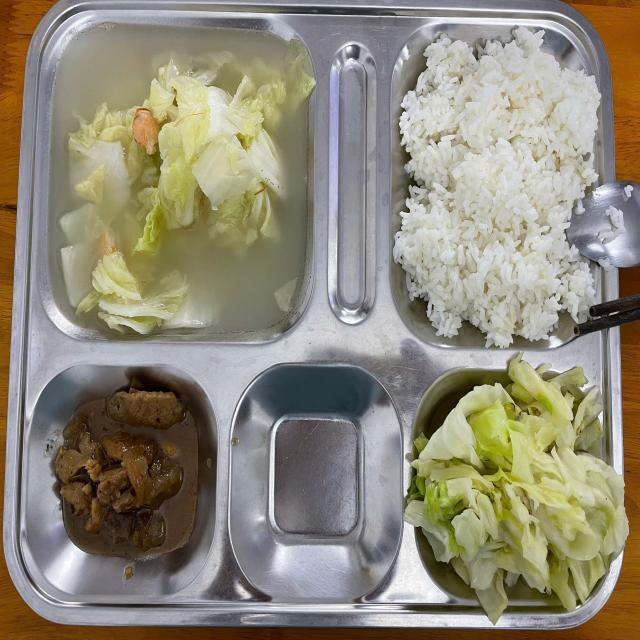cailuoc: (426, 380, 608, 614)
canhcaitrang: (55, 37, 306, 333)
salad: (412, 54, 590, 326)
tomramthit: (62, 393, 194, 554)
